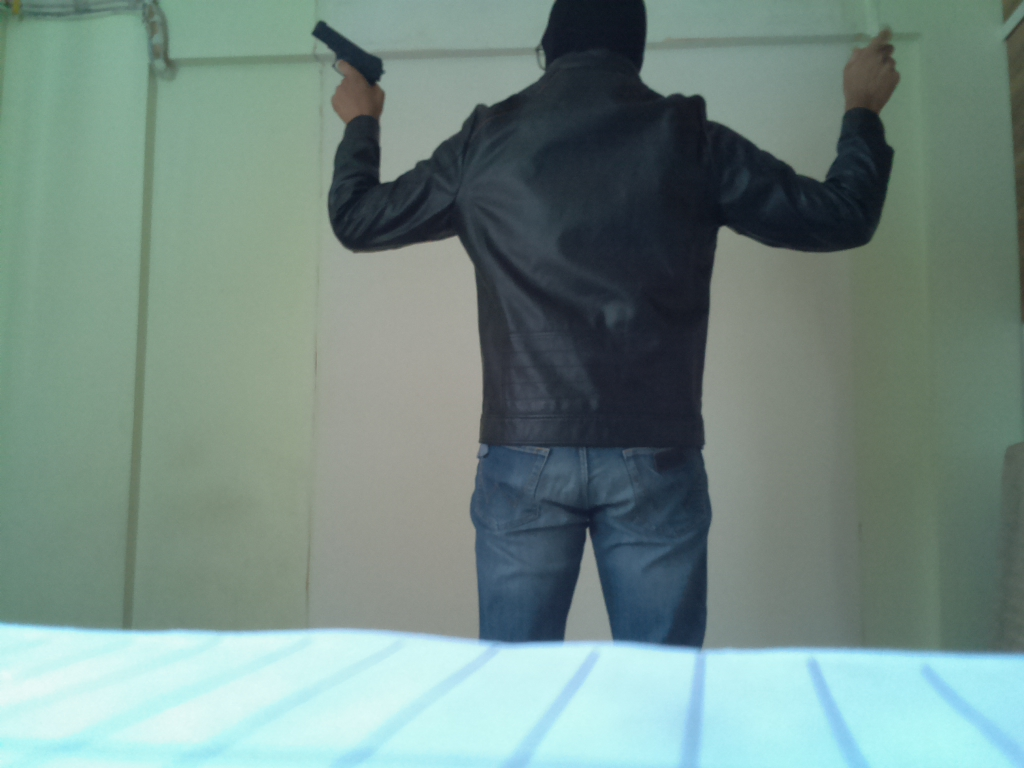gun: (303, 15, 386, 94)
